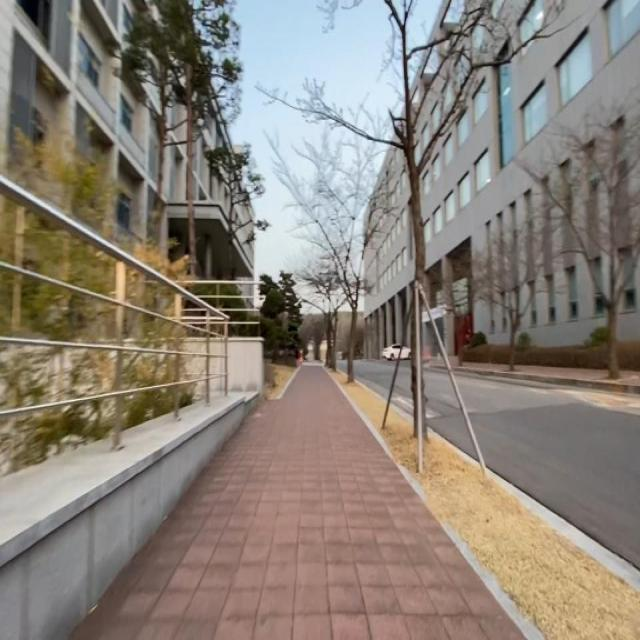sidewalk: (66, 363, 526, 640), (514, 365, 609, 379), (461, 362, 511, 372), (619, 371, 640, 384), (449, 356, 460, 367), (431, 359, 445, 366)
